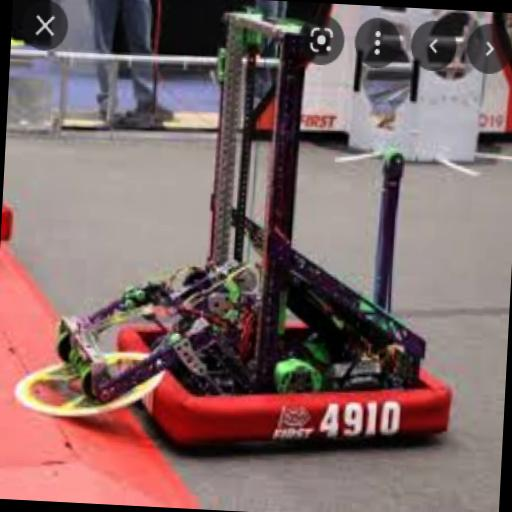robot: (53, 1, 475, 462)
